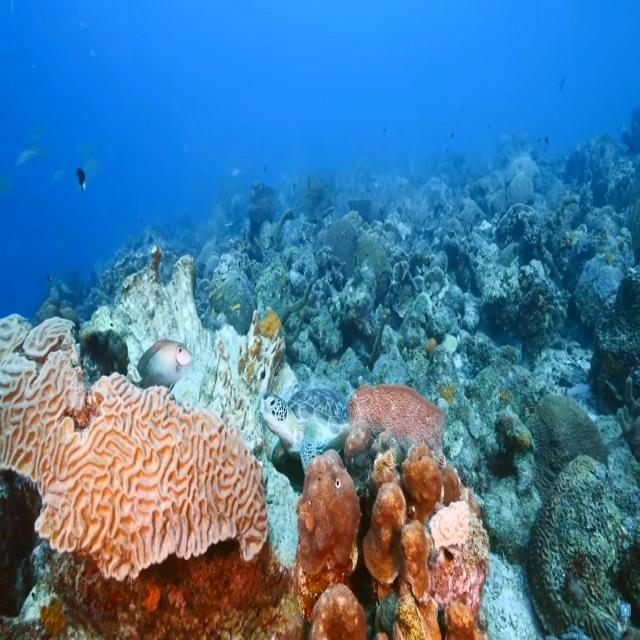Sea turtle: (254, 382, 356, 478)
